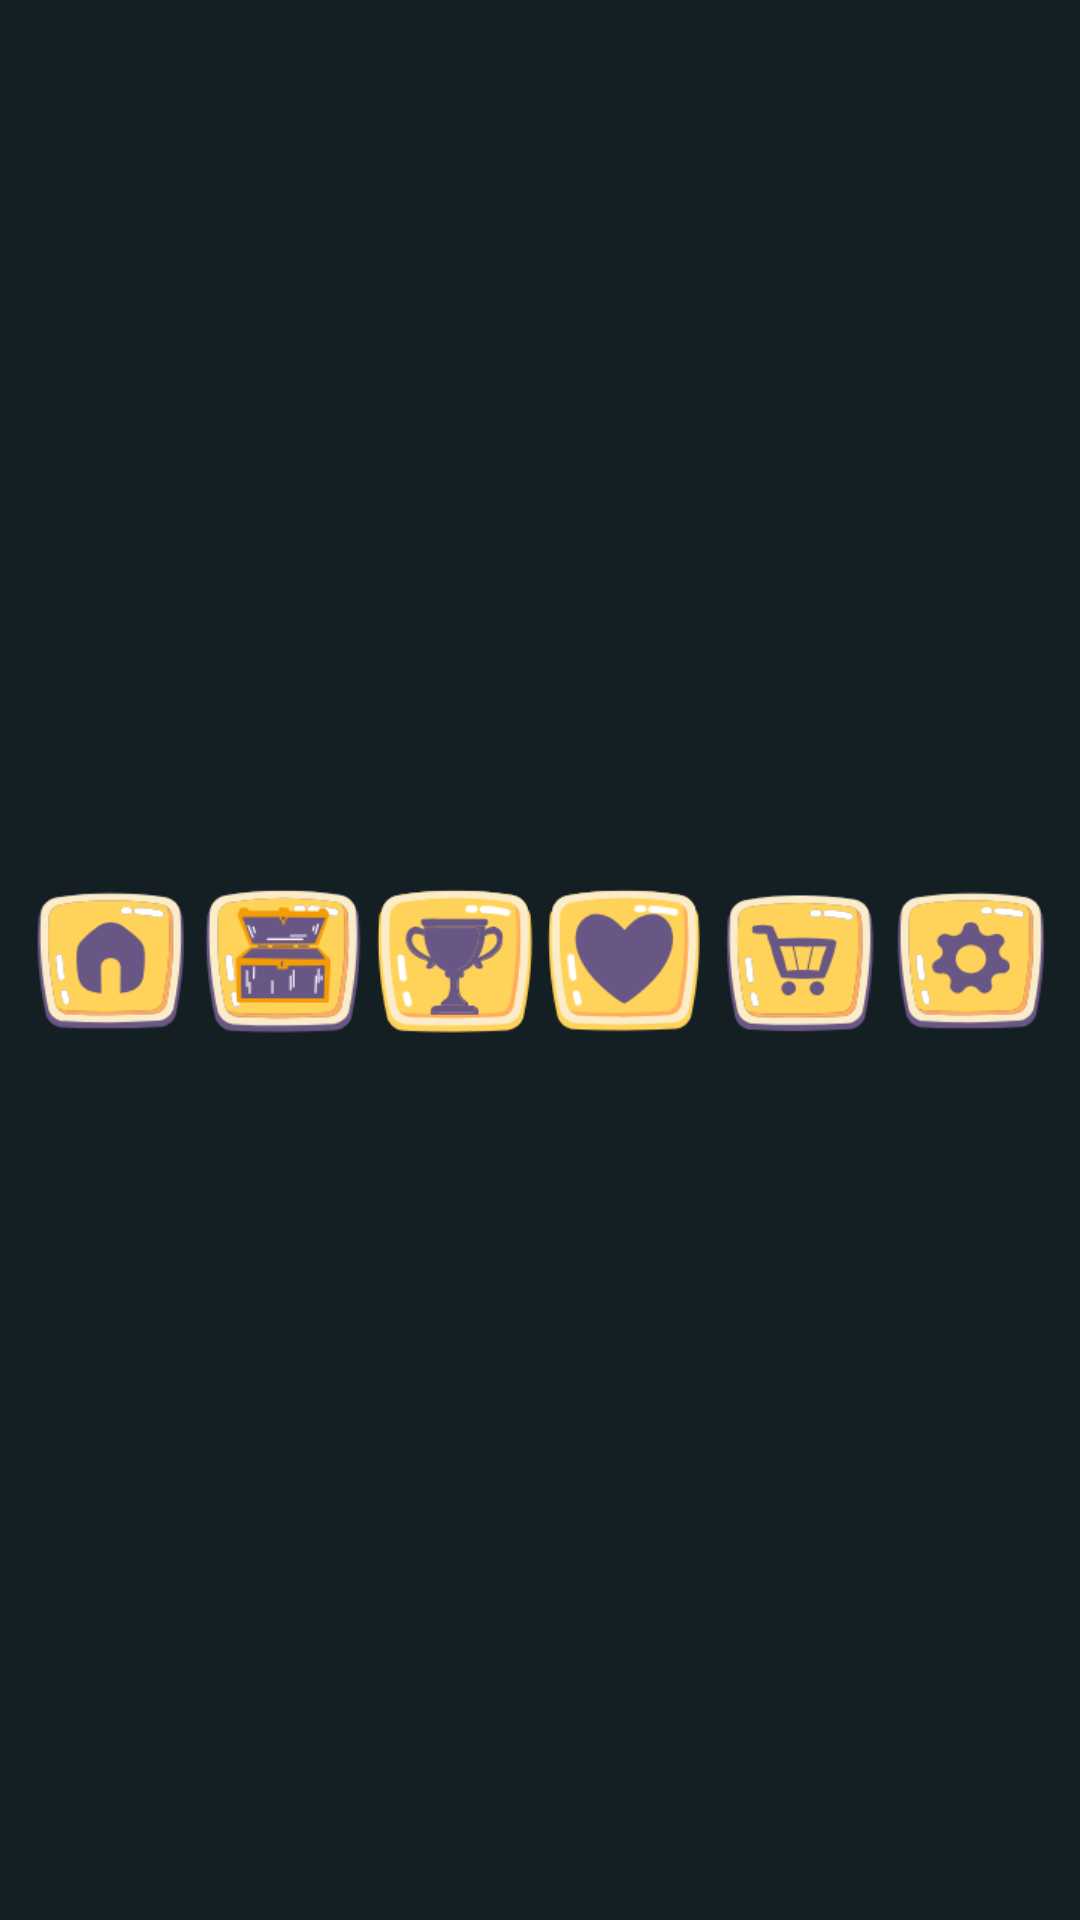

Icons on this 1080w x 1920h Android screen, each with the point to tap as [x,y]:
chest: [283,961]
heart: [624,960]
settings: [970,960]
shop: [800,963]
trophy: [455,961]
